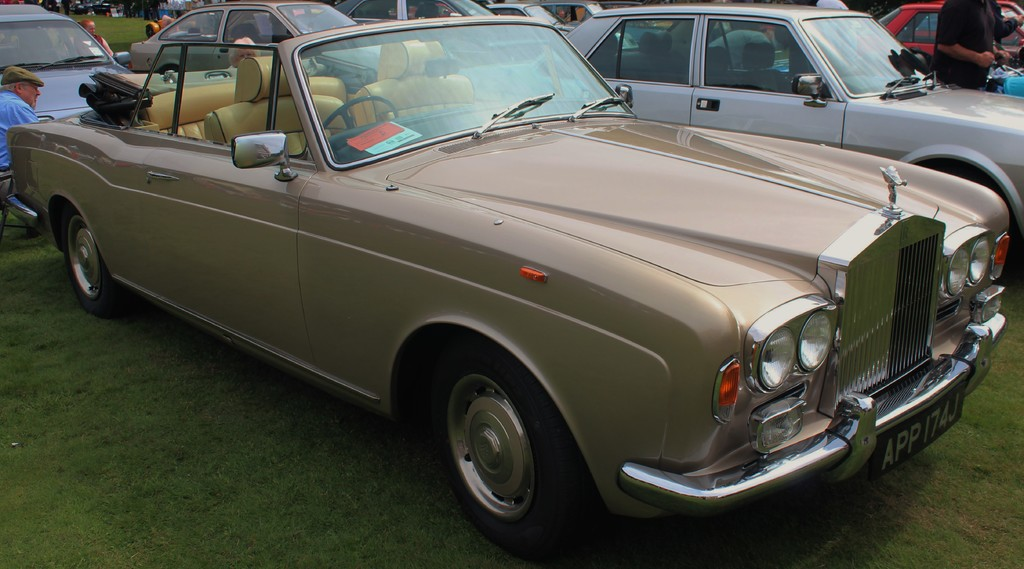Person: (934, 0, 1011, 88), (0, 63, 45, 208), (76, 17, 114, 56), (990, 0, 1023, 44), (224, 32, 257, 67)
